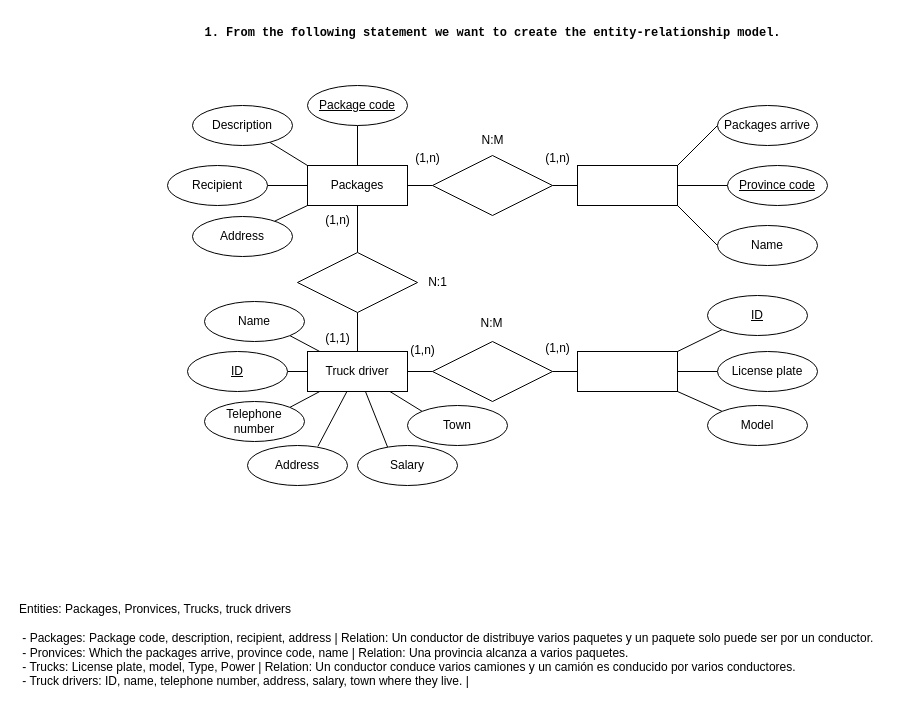
Image size: 914x712. Some labels were removed from this diagram. The centre of each missing label's shape, as x and y in pixels:
"distributed" goes at point 357,282.
"drives" goes at point 492,371.
"Provinces" goes at point 627,185.
"reaches" goes at point 492,185.
"Trucks" goes at point 627,371.
